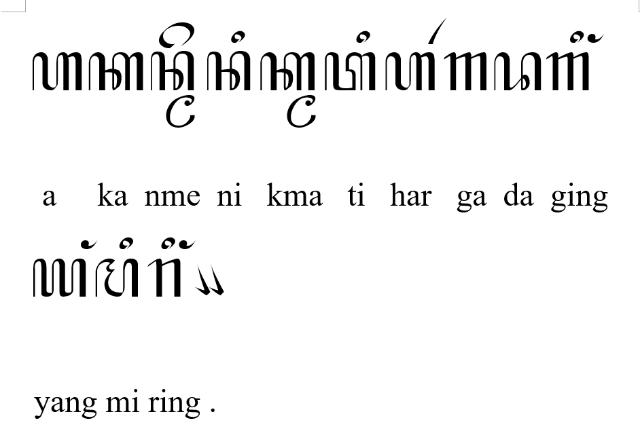_m: (165, 94, 195, 128), (286, 95, 316, 129)
_r1: (428, 17, 446, 44)
d: (493, 51, 543, 91)
e: (159, 22, 195, 48)
g: (546, 52, 590, 92), (444, 51, 486, 91)
h: (31, 51, 83, 91), (384, 51, 436, 91)
i: (230, 30, 246, 44), (569, 30, 585, 44), (118, 237, 134, 250), (356, 30, 370, 44), (161, 237, 175, 251)
k: (88, 51, 144, 92), (260, 51, 316, 91)
kom: (193, 264, 210, 296), (208, 264, 224, 296)
m: (95, 258, 139, 298)
n: (150, 51, 196, 92), (205, 51, 251, 92)
ng: (588, 32, 604, 44), (80, 240, 98, 250), (178, 240, 196, 250)
r: (147, 258, 183, 300)
t: (324, 52, 376, 91)
y: (32, 259, 88, 298)
